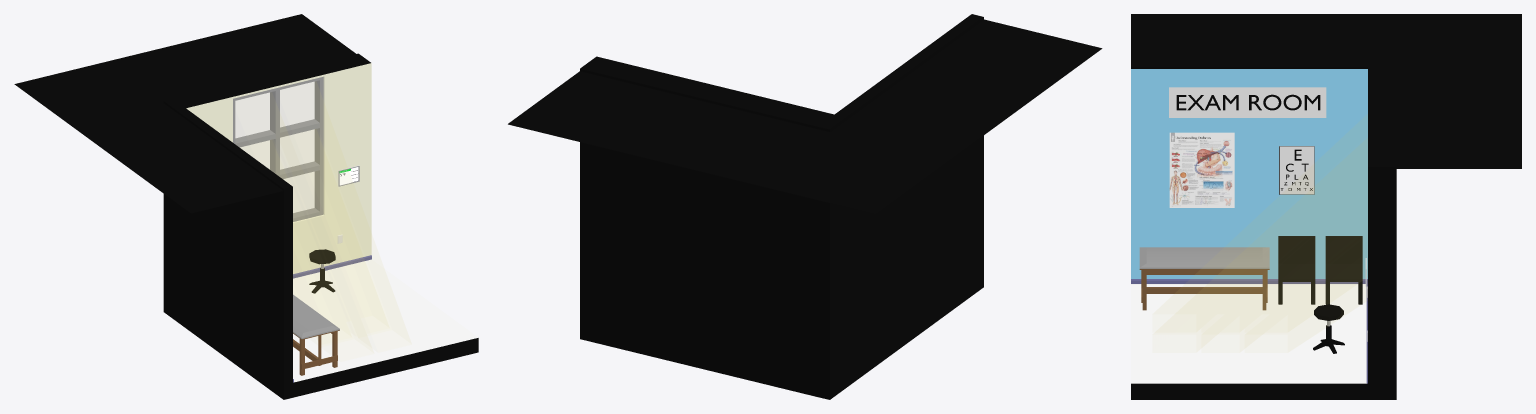
The model's file is doctor_exam_room.glb.
The picture shows the model from 3 angles, left to right: view 1: azimuth 30°, elevation 25°; view 2: azimuth 150°, elevation 25°; view 3: azimuth 270°, elevation 25°; orthographic projection. The views are drawn at different scales.
Parts seen in each view (by area): view 1: CubeRoom_28, CubeRoom.001_34, examTable_29, Circle_33; view 2: CubeRoom_28, CubeRoom.001_34; view 3: CubeRoom_28, CubeRoom.001_34, DM-poster_12, examTable_29, KCH-alph-corner.001_19, chair_30, chair2_31, eyeChart_10, Text.018_26, Circle_33.
Part boxes in pixels (x1,y1,x2,y2): CubeRoom_28: [163, 53, 478, 399]; CubeRoom.001_34: [14, 14, 355, 213]; examTable_29: [293, 294, 339, 375]; Circle_33: [309, 249, 335, 293]; CubeRoom_28: [580, 14, 983, 399]; CubeRoom.001_34: [508, 19, 1102, 214]; CubeRoom_28: [1131, 62, 1396, 399]; CubeRoom.001_34: [1131, 14, 1521, 168]; DM-poster_12: [1169, 132, 1234, 207]; examTable_29: [1139, 247, 1269, 310]; KCH-alph-corner.001_19: [1169, 87, 1326, 117]; chair_30: [1278, 236, 1315, 304]; chair2_31: [1325, 236, 1362, 304]; eyeChart_10: [1279, 146, 1314, 194]; Text.018_26: [1176, 94, 1320, 110]; Circle_33: [1313, 304, 1344, 353].
Size of the model in its own units: 31 by 21.72 by 33.
Materials: 15 (1 with a texture image).
